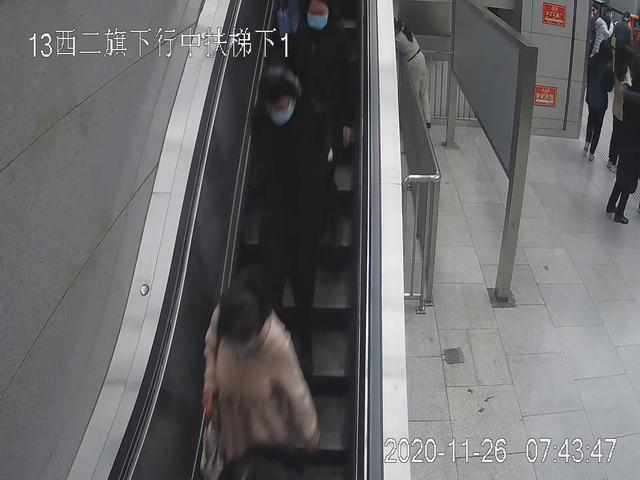person: (254, 55, 335, 381), (203, 274, 319, 480), (392, 18, 437, 127), (608, 81, 640, 223), (584, 38, 607, 157)
